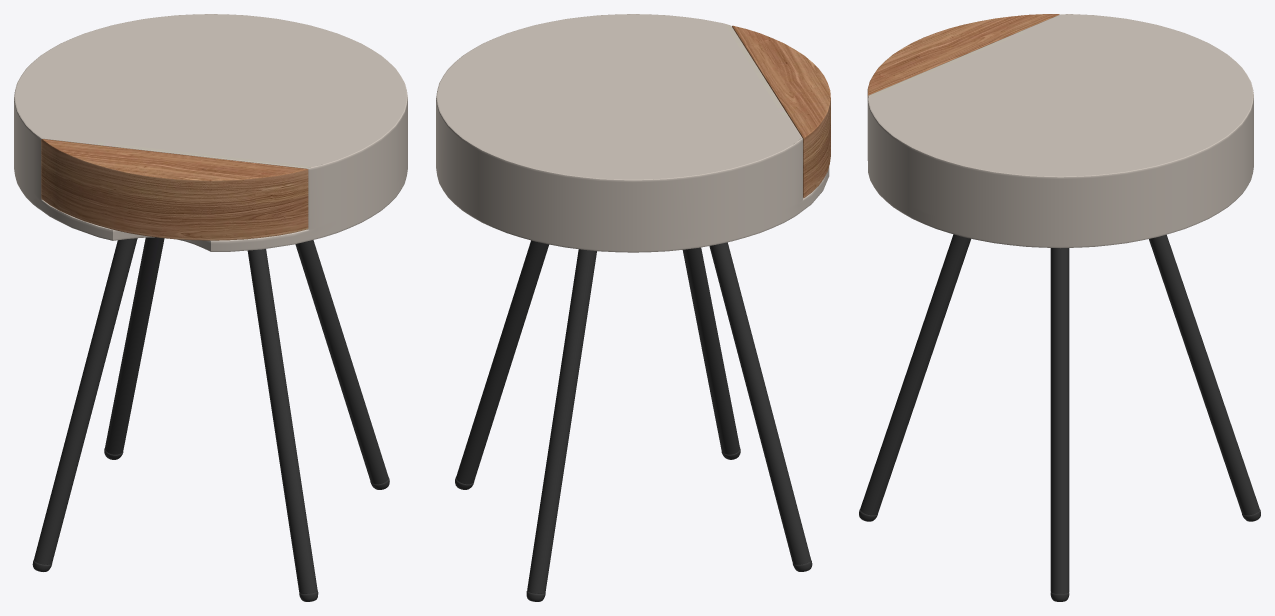
The model's file is abo-B07GF51KS1.glb.
3 renders of one model, left to right at view 1: azimuth 30°, elevation 25°; view 2: azimuth 150°, elevation 25°; view 3: azimuth 270°, elevation 25°, orthographic.
Bounding box in the file's own units: 0.45 × 0.525 × 0.45.
1 material, 1 textured.
